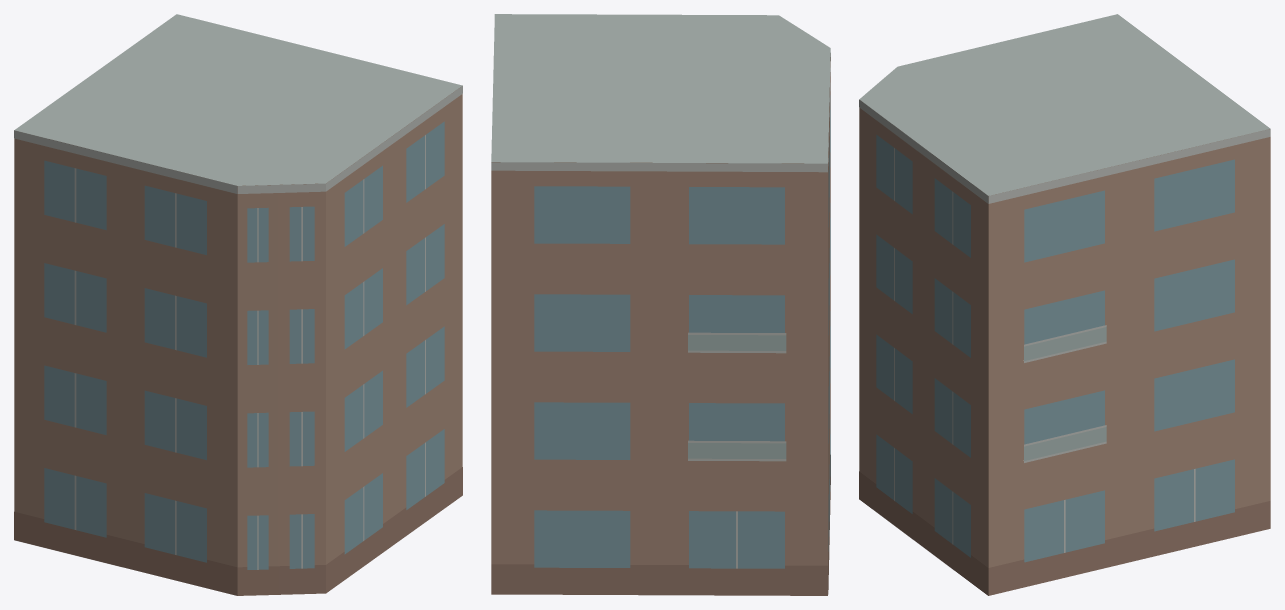
File: residential-e78d42e6-c306-4581-a37a-444467e4fbf7.glb
3 renders of one model, left to right at view 1: azimuth 30°, elevation 25°; view 2: azimuth 150°, elevation 25°; view 3: azimuth 270°, elevation 25°, orthographic. The views are drawn at different scales.
Visible parts, largest first — view 1: residential-e78d42e6-c306-4581-a37a-444467e4fbf7.tmp; view 2: residential-e78d42e6-c306-4581-a37a-444467e4fbf7.tmp; view 3: residential-e78d42e6-c306-4581-a37a-444467e4fbf7.tmp.
Boxes of the visible parts, x1,y1,x2,y2 form: residential-e78d42e6-c306-4581-a37a-444467e4fbf7.tmp: [14, 14, 462, 595]; residential-e78d42e6-c306-4581-a37a-444467e4fbf7.tmp: [491, 14, 830, 595]; residential-e78d42e6-c306-4581-a37a-444467e4fbf7.tmp: [859, 14, 1270, 595].
Bounding box in the file's own units: 11.92 × 12.2 × 11.39.
